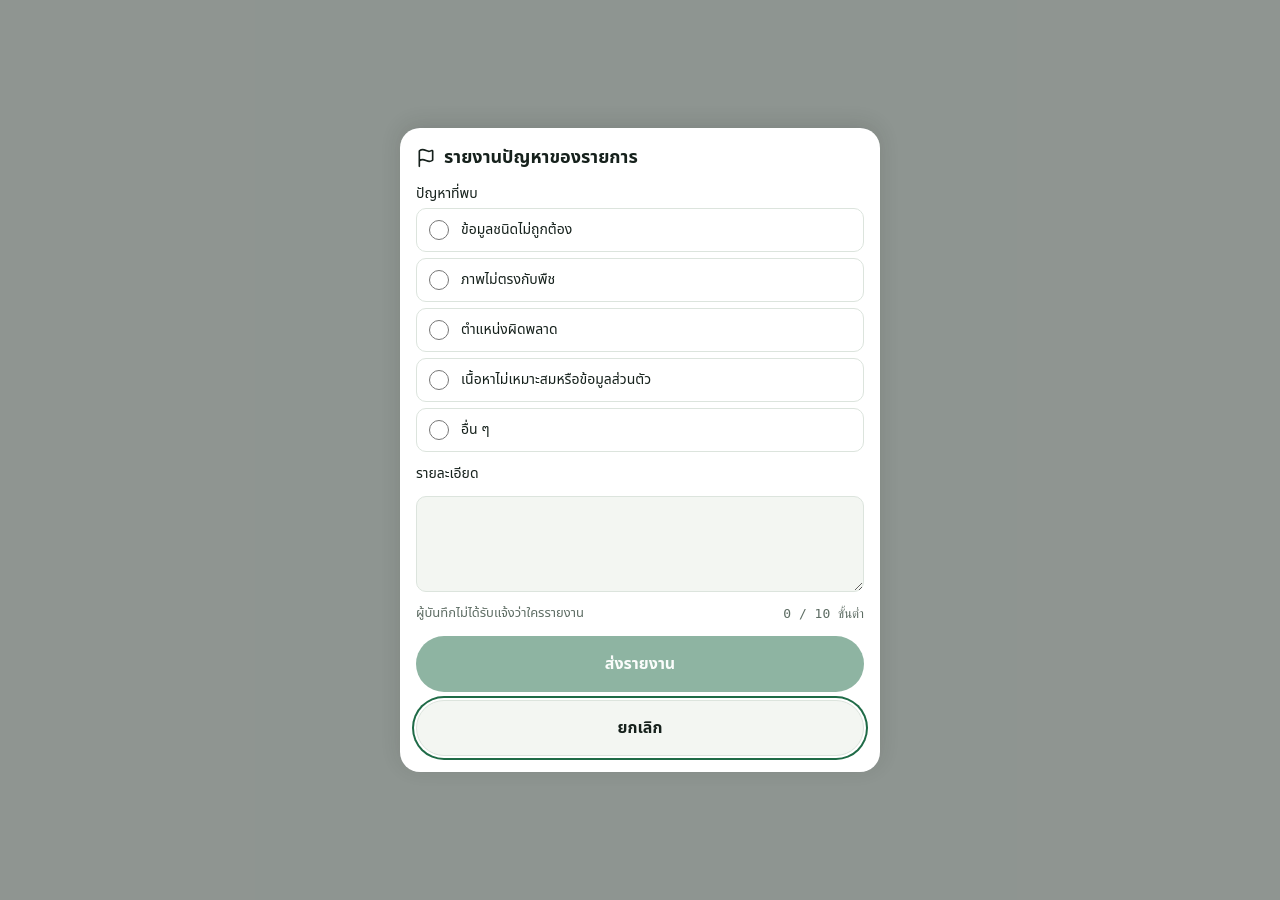
Test case: ReportIssueSheet › needs a type and ten characters, then reports anonymously
The image size is (1280, 900).
expect the button "ส่งรายงาน" is disabled: met, box [416,636,864,692]
Click the radio button labelled "ตำแหน่งผิดพลาด": (439, 330) [429,320,449,340]
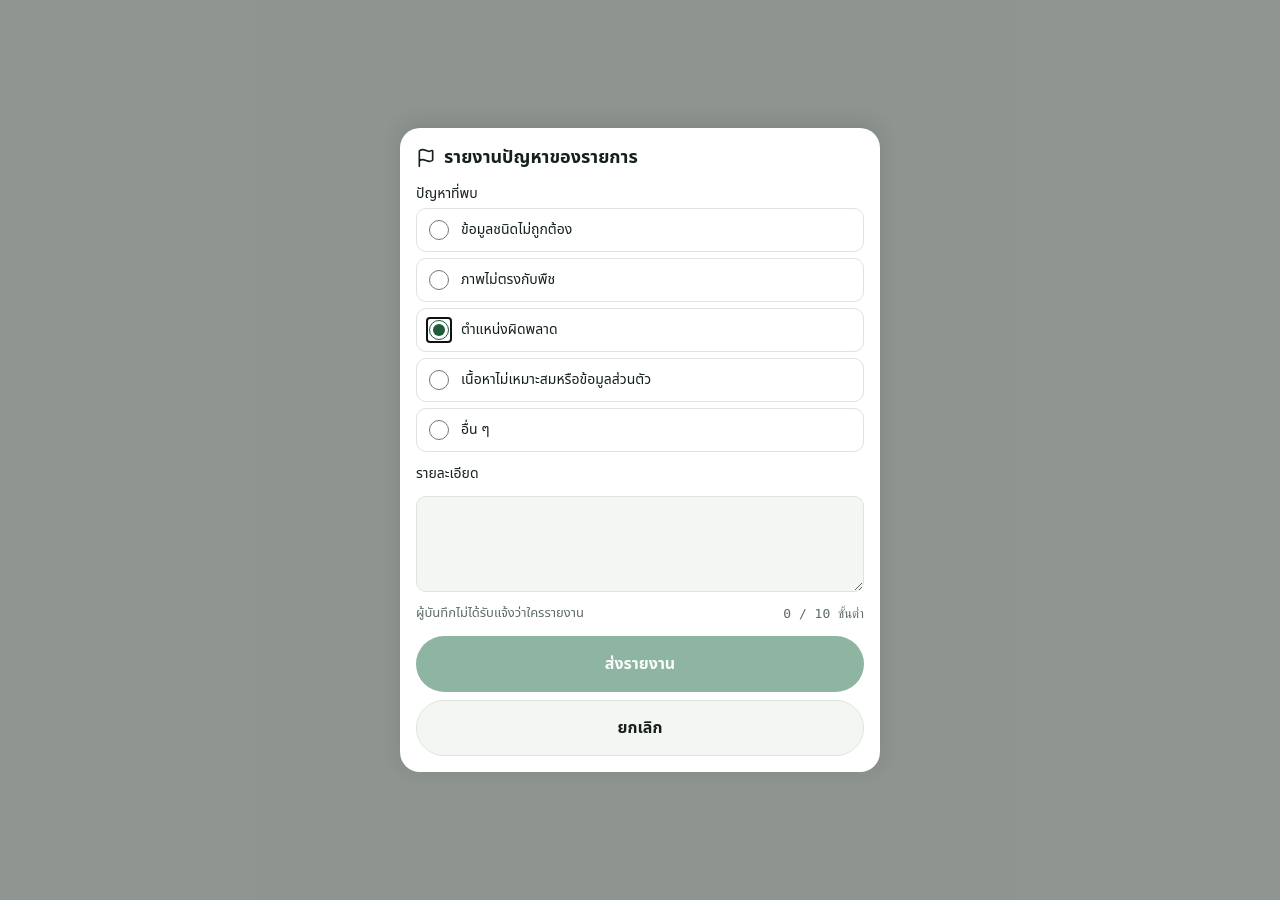
In the text box labelled "รายละเอียด": (640, 544) [416,496,864,592], type "สั้น"
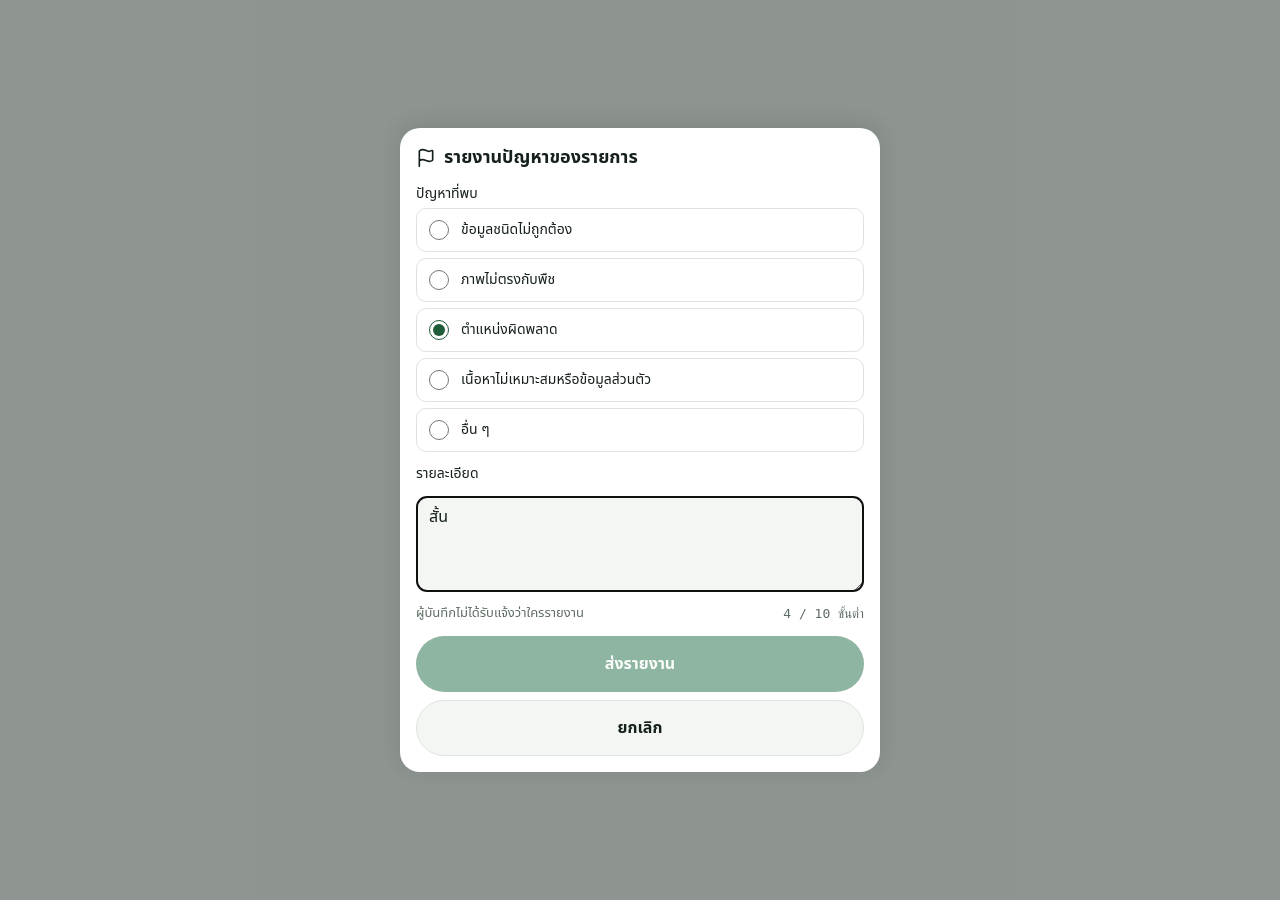
expect the button "ส่งรายงาน" is disabled: met, box [416,636,864,692]
In the text box labelled "รายละเอียด": (640, 544) [416,496,864,592], type "ไป หมุดอยู่นอกโรงเรียน"
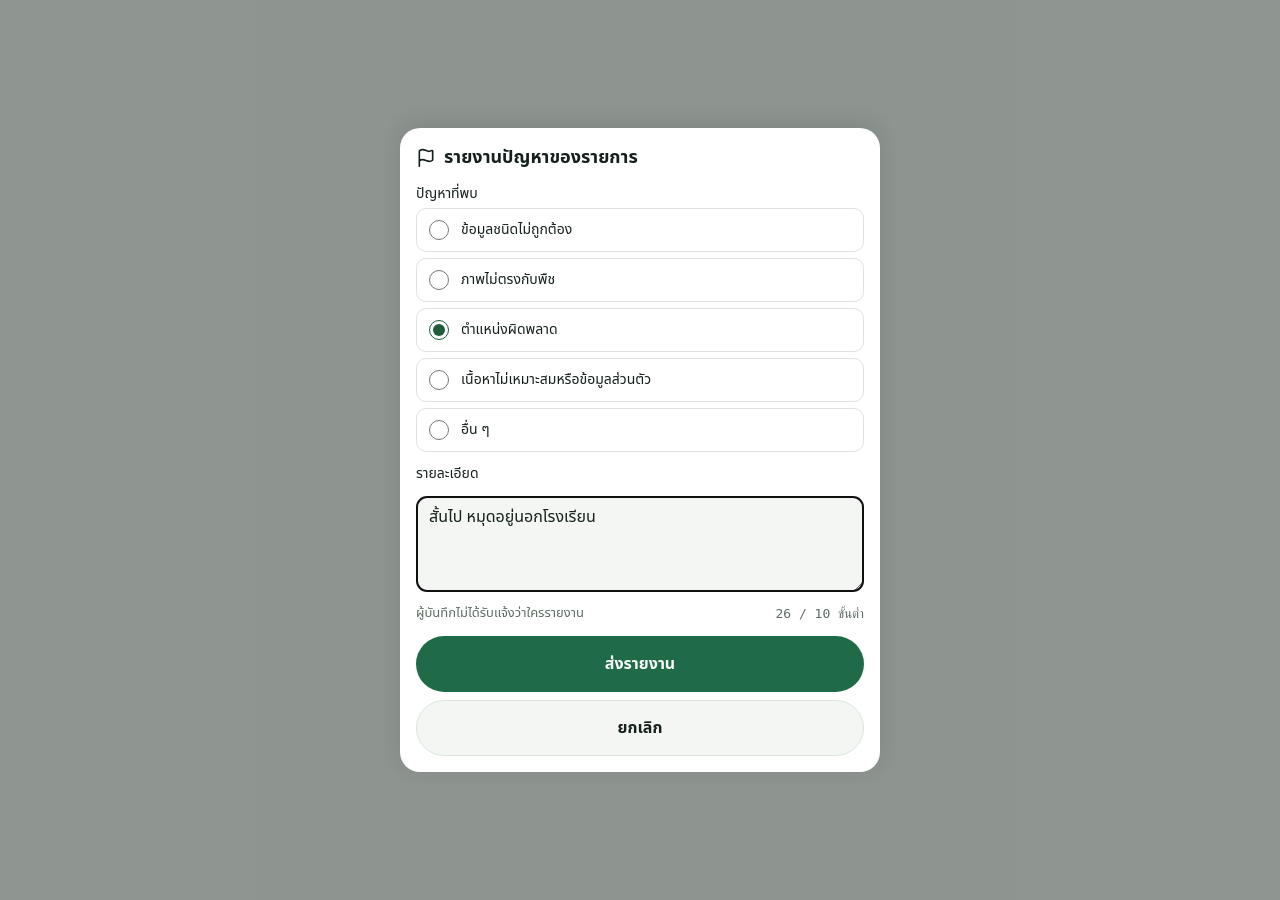
Click the button "ส่งรายงาน": (640, 664) [416,636,864,692]
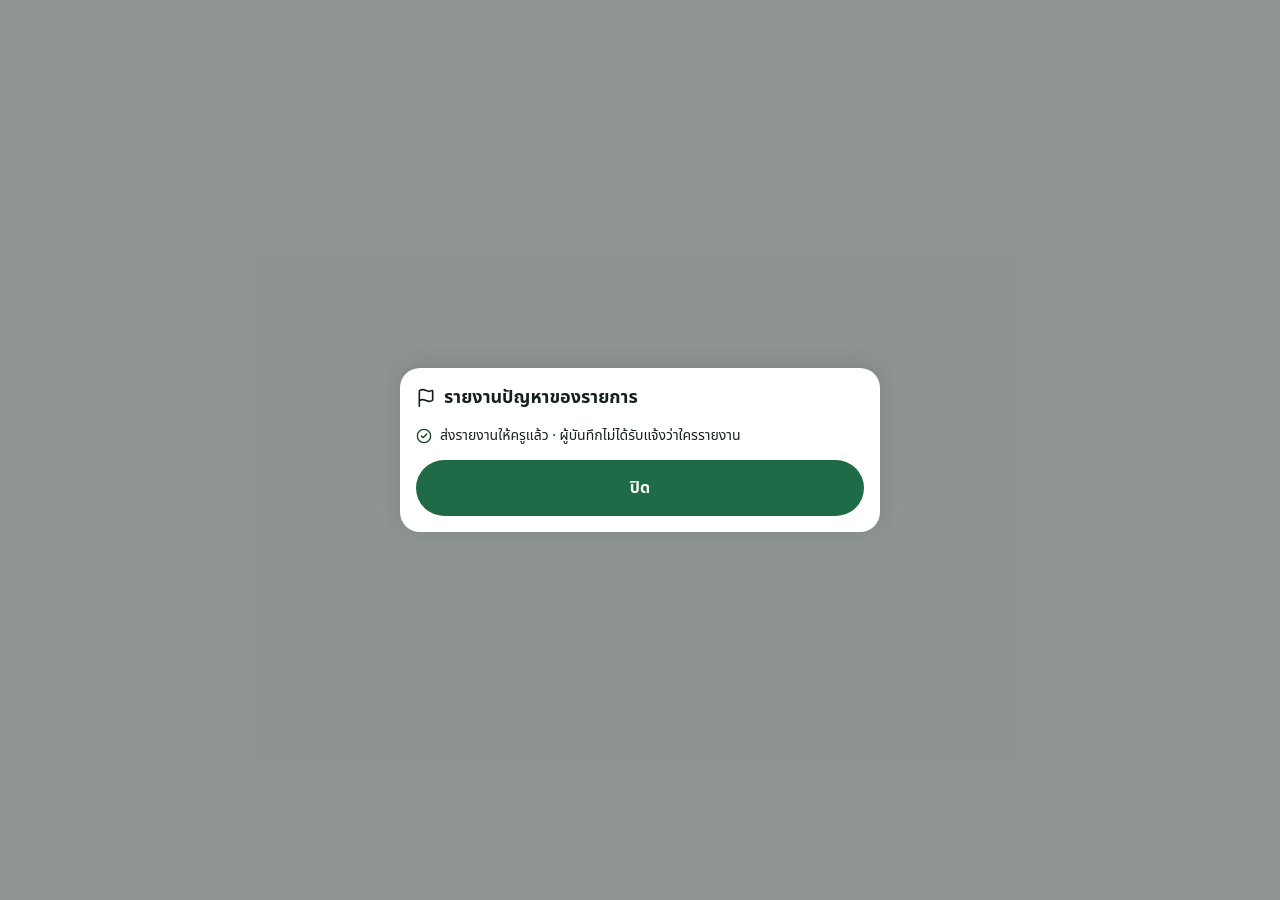
expect the text "ส่งรายงานให้ครูแล้ว · ผู้บันทึกไม่ได้รับแจ้งว่าใครรายงาน" is shown: met, box [416,425,740,446]
